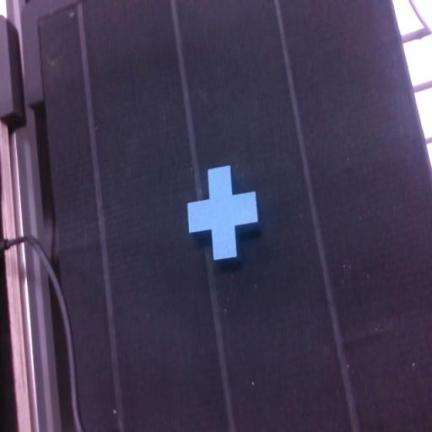cross: (188, 166, 258, 259)
